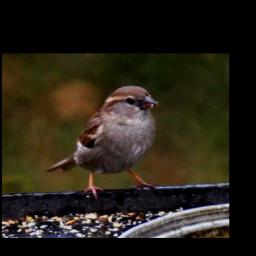Sparrow: (46, 84, 162, 201)
